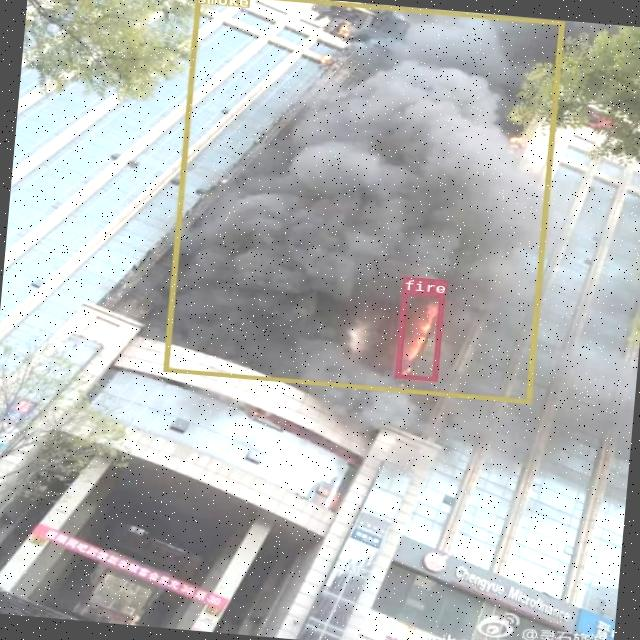fire: (393, 289, 444, 380)
smoke: (161, 0, 562, 403)
